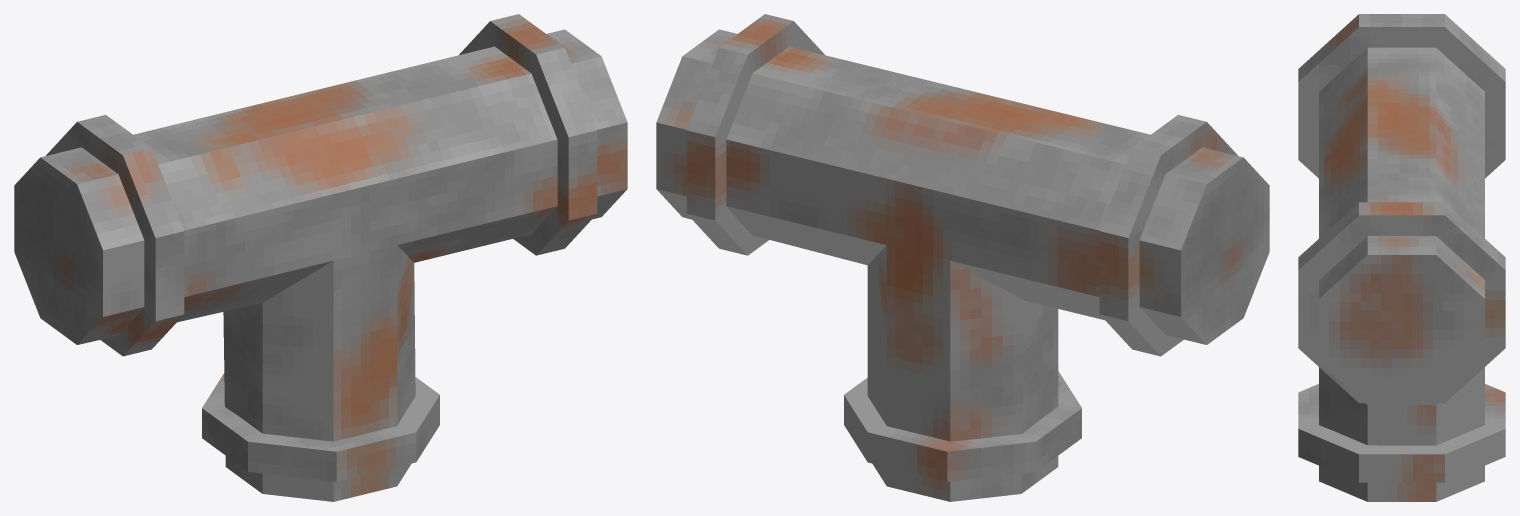
File: pipe_junction_t.gltf
The picture shows the model from 3 angles, left to right: view 1: azimuth 30°, elevation 25°; view 2: azimuth 150°, elevation 25°; view 3: azimuth 270°, elevation 25°; orthographic projection. The views are drawn at different scales.
Visible parts, largest first — view 1: cylinder (×4); view 2: cylinder (×4); view 3: cylinder (×4).
Part boxes in pixels (bbox=[...]): cylinder (×4): bbox=[14, 14, 627, 501]; cylinder (×4): bbox=[656, 14, 1269, 501]; cylinder (×4): bbox=[1298, 14, 1505, 501].
Size of the model in its own units: 3.41 by 2.34 by 1.25.
Materials: 1 (1 with a texture image).
